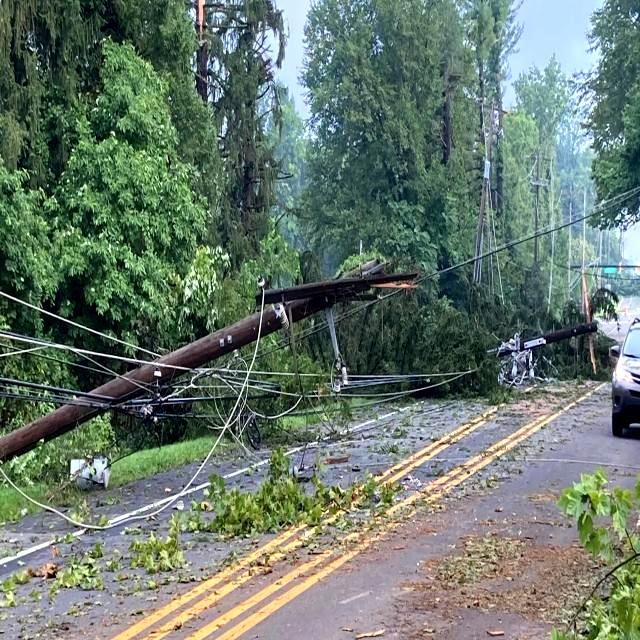Broken Pole: (0, 251, 407, 465)
